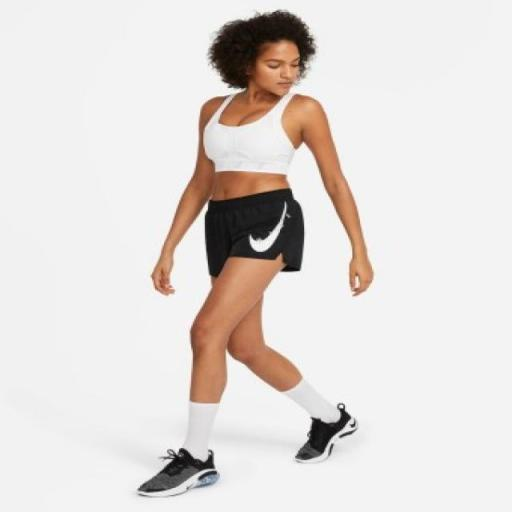Nike: (240, 199, 294, 259)
